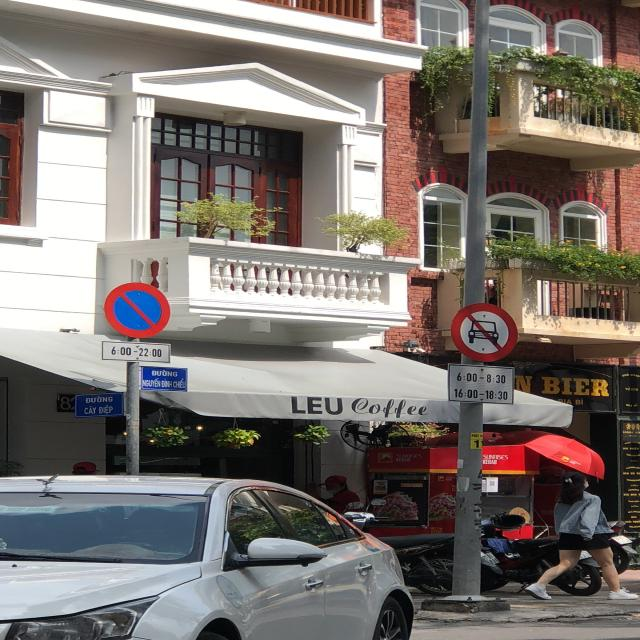Bien bao cam do xe: (99, 276, 178, 337)
Bien bao cam xe oto: (442, 298, 527, 363)
